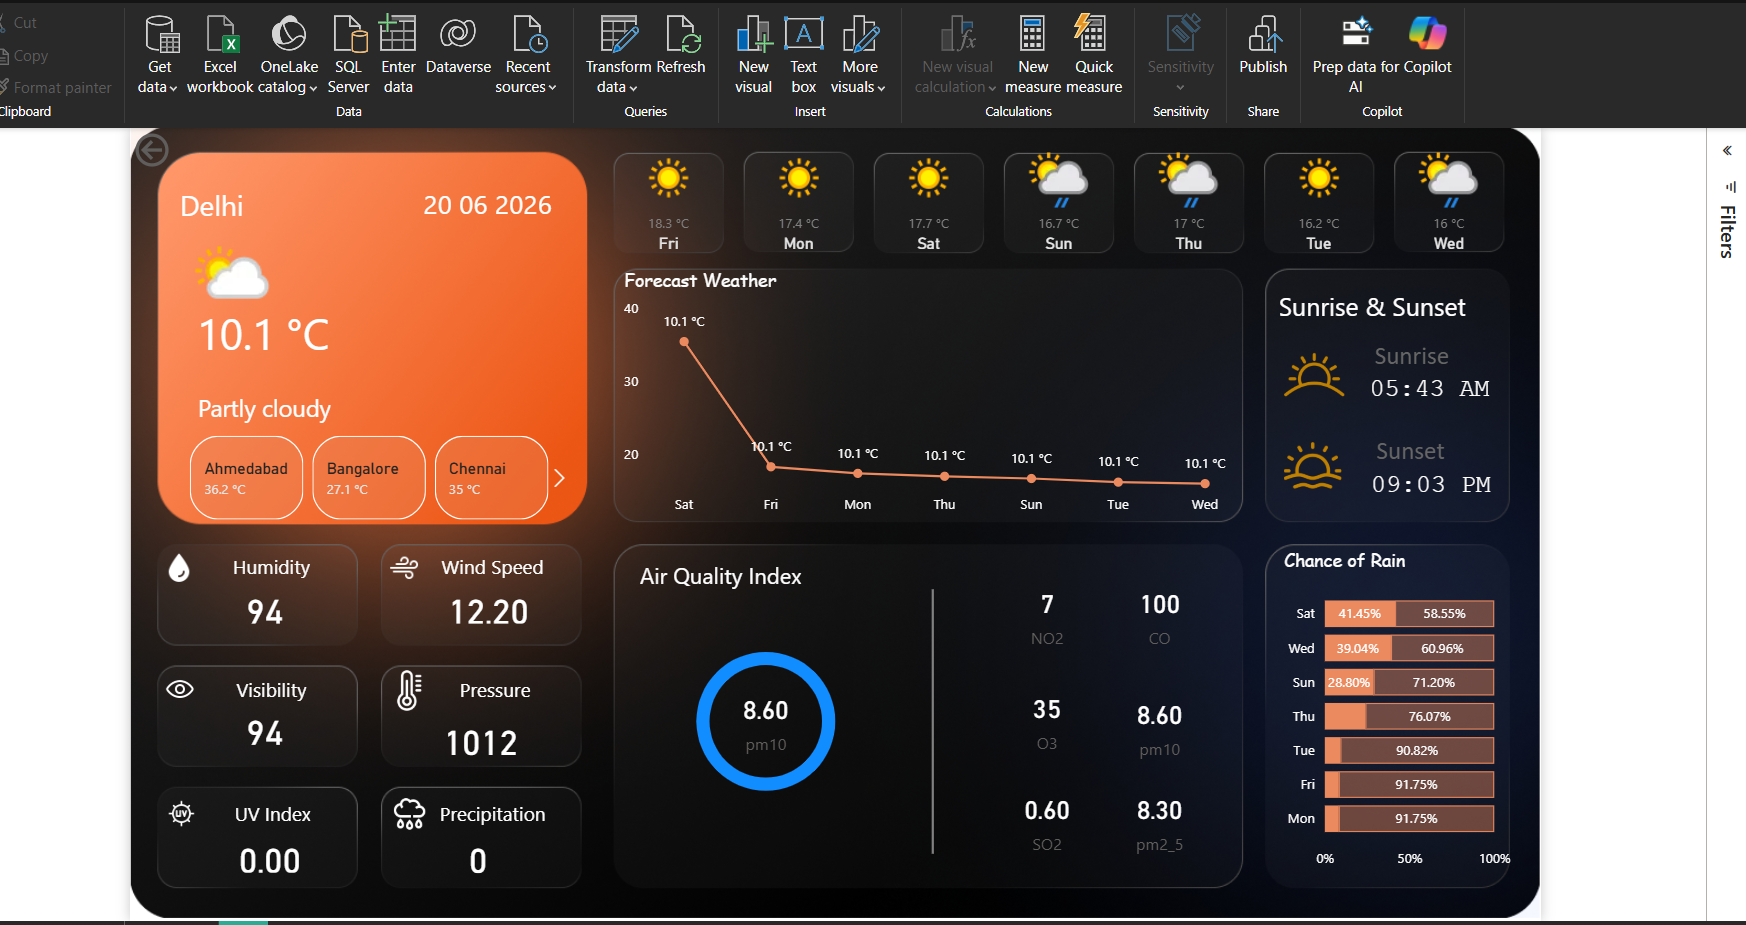

What the dashboard file says about the page in this screenshot:
{"tool":"powerbi","page":{"name":"Page 1","canvas":[1280,720],"ordinal":0},"visuals":[{"type":"advancedSlicerVisual","fields":{"Values":["Location.location.name"]},"box":[29.1,274.4,375.6,86],"z":0},{"type":"shape","box":[36,145.3,168.6,80.2],"z":1000},{"type":"shape","box":[25.6,233.7,191.9,40.7],"z":2000},{"type":"shape","box":[45.3,44.2,203.5,48.8],"z":3000},{"type":"shape","box":[248.8,44.2,152.3,47.7],"z":4000},{"type":"cardVisual","fields":{"Data":["Min(current.current.condition.icon)"]},"box":[36,79.1,114,117.4],"z":5000},{"type":"image","box":[25.6,360.5,37.2,76.7],"z":6000},{"type":"image","box":[230.2,360.5,37.2,76.7],"z":7000},{"type":"image","box":[25.6,470.9,38.4,76.7],"z":8000},{"type":"image","box":[230.2,483.7,46.5,54.7],"z":9000},{"type":"image","box":[29.1,577.9,34.9,87.2],"z":10000},{"type":"image","box":[225.6,600,55.8,45.3],"z":11000},{"type":"shape","box":[52.3,381.4,152.3,33.7],"z":12000},{"type":"shape","box":[253.5,381.4,152.3,33.7],"z":13000},{"type":"shape","box":[52.3,491.9,152.3,33.7],"z":14000},{"type":"shape","box":[53.5,604.7,152.3,33.7],"z":15000},{"type":"shape","box":[254.7,491.9,152.3,33.7],"z":16000},{"type":"shape","box":[253.5,604.7,152.3,33.7],"z":17000},{"type":"card","fields":{"Values":["Sum(current.current.humidity)"]},"box":[80.2,418.6,83.7,36],"z":18000},{"type":"card","fields":{"Values":["Sum(current.current.wind_kph)"]},"box":[283.8,418.8,83.8,36.2],"z":19000},{"type":"card","fields":{"Values":["Sum(current.current.humidity)"]},"box":[80.2,529.1,83.7,36],"z":20000},{"type":"card","fields":{"Values":["Sum(current.current.pressure_mb)"]},"box":[276.7,538,83.1,36.8],"z":21000},{"type":"card","fields":{"Values":["Sum(current.current.uv)"]},"box":[85.5,644.9,84.3,35.6],"z":22000},{"type":"card","fields":{"Values":["Sum(current.current.precip_in)"]},"box":[276.7,643.7,78.4,36.8],"z":23000},{"type":"advancedSlicerVisual","fields":{"Values":["Forecast_day.DAy_Name"]},"box":[428.6,7.1,830,142.9],"z":23001},{"type":"lineChart","title":"Forecast Weather","fields":{"Y":["Sum(Forecast_day.forecast.forecastday.day.avgtemp_c)"],"Category":["Forecast_day.DAy_Name"]},"box":[443.8,127.5,568.8,232.5],"z":23002},{"type":"shape","box":[1042.9,137.1,202.9,48.6],"z":23003},{"type":"shape","box":[1112.9,207.1,132.9,58.6],"z":23004},{"type":"shape","box":[1114.3,291.4,132.9,67.1],"z":23005},{"type":"shape","box":[1097.1,187.1,132.9,38.6],"z":23006},{"type":"shape","box":[1095.7,261.4,132.9,62.9],"z":23007},{"type":"image","box":[1042.9,274.3,61.4,62.9],"z":23008},{"type":"image","box":[1031.4,182.9,87.1,82.9],"z":23009},{"type":"hundredPercentStackedBarChart","title":"Chance of Rain","fields":{"Category":["Forecast_day.DAy_Name"],"Y":["Sum(Forecast_day.forecast.forecastday.day.daily_chance_of_rain)","_Measure.Left_Value_rain"]},"box":[1042.9,381.4,215.7,300],"z":23010},{"type":"card","fields":{"Values":["Sum(current.current.air_quality.co)"]},"box":[892.5,406.2,83.8,71.2],"z":23011},{"type":"shape","box":[462.5,381.2,203.8,48.8],"z":23012},{"type":"card","fields":{"Values":["Sum(current.current.air_quality.pm10)"]},"box":[535,502.5,83.8,71.2],"z":23013},{"type":"card","fields":{"Values":["Sum(current.current.air_quality.o3)"]},"box":[790,501.2,83.8,71.2],"z":23014},{"type":"card","fields":{"Values":["Sum(current.current.air_quality.no2)"]},"box":[790,406.2,83.8,71.2],"z":23015},{"type":"card","fields":{"Values":["Sum(current.current.air_quality.pm2_5)"]},"box":[892.5,593.8,83.8,71.2],"z":23016},{"type":"card","fields":{"Values":["Sum(current.current.air_quality.so2)"]},"box":[790,593.8,83.8,71.2],"z":23017},{"type":"shape","box":[652.5,418.8,152.5,240],"z":23018},{"type":"actionButton","box":[0,0,100,40],"z":23020},{"type":"card","fields":{"Values":["Sum(current.current.air_quality.pm10)"]},"box":[892.5,507.5,83.8,71.2],"z":23021},{"type":"donutChart","fields":{"Y":["Sum(current.current.air_quality.pm10)"]},"box":[475,455,203.8,167.5],"z":23022}]}

Visuals, with their boxes on the page's 1280x720 design canvas (x1, y1, x2, y2). These are canvas units, not pixel positions in the 1746x925 screenshot, which may show the page scaled, cropped or inside an application window:
advancedSlicerVisual - Location.location.name: bbox=(29, 274, 405, 360)
shape: bbox=(36, 145, 205, 226)
shape: bbox=(26, 234, 218, 274)
shape: bbox=(45, 44, 249, 93)
shape: bbox=(249, 44, 401, 92)
cardVisual - Min(current.current.condition.icon): bbox=(36, 79, 150, 196)
image: bbox=(26, 360, 63, 437)
image: bbox=(230, 360, 267, 437)
image: bbox=(26, 471, 64, 548)
image: bbox=(230, 484, 277, 538)
image: bbox=(29, 578, 64, 665)
image: bbox=(226, 600, 281, 645)
shape: bbox=(52, 381, 205, 415)
shape: bbox=(254, 381, 406, 415)
shape: bbox=(52, 492, 205, 526)
shape: bbox=(54, 605, 206, 638)
shape: bbox=(255, 492, 407, 526)
shape: bbox=(254, 605, 406, 638)
card - Sum(current.current.humidity): bbox=(80, 419, 164, 455)
card - Sum(current.current.wind_kph): bbox=(284, 419, 368, 455)
card - Sum(current.current.humidity): bbox=(80, 529, 164, 565)
card - Sum(current.current.pressure_mb): bbox=(277, 538, 360, 575)
card - Sum(current.current.uv): bbox=(86, 645, 170, 680)
card - Sum(current.current.precip_in): bbox=(277, 644, 355, 680)
advancedSlicerVisual - Forecast_day.DAy_Name: bbox=(429, 7, 1259, 150)
"Forecast Weather" lineChart: bbox=(444, 128, 1013, 360)
shape: bbox=(1043, 137, 1246, 186)
shape: bbox=(1113, 207, 1246, 266)
shape: bbox=(1114, 291, 1247, 358)
shape: bbox=(1097, 187, 1230, 226)
shape: bbox=(1096, 261, 1229, 324)
image: bbox=(1043, 274, 1104, 337)
image: bbox=(1031, 183, 1118, 266)
"Chance of Rain" hundredPercentStackedBarChart: bbox=(1043, 381, 1259, 681)
card - Sum(current.current.air_quality.co): bbox=(892, 406, 976, 477)
shape: bbox=(462, 381, 666, 430)
card - Sum(current.current.air_quality.pm10): bbox=(535, 502, 619, 574)
card - Sum(current.current.air_quality.o3): bbox=(790, 501, 874, 572)
card - Sum(current.current.air_quality.no2): bbox=(790, 406, 874, 477)
card - Sum(current.current.air_quality.pm2_5): bbox=(892, 594, 976, 665)
card - Sum(current.current.air_quality.so2): bbox=(790, 594, 874, 665)
shape: bbox=(652, 419, 805, 659)
actionButton: bbox=(0, 0, 100, 40)
card - Sum(current.current.air_quality.pm10): bbox=(892, 508, 976, 579)
donutChart - Sum(current.current.air_quality.pm10): bbox=(475, 455, 679, 622)
